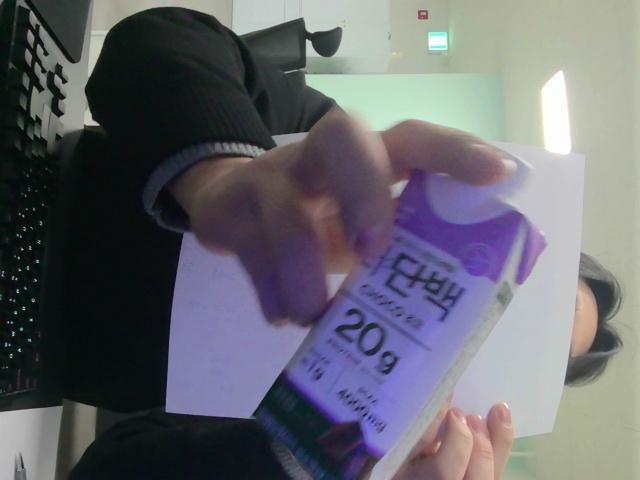milk: (252, 154, 545, 479)
